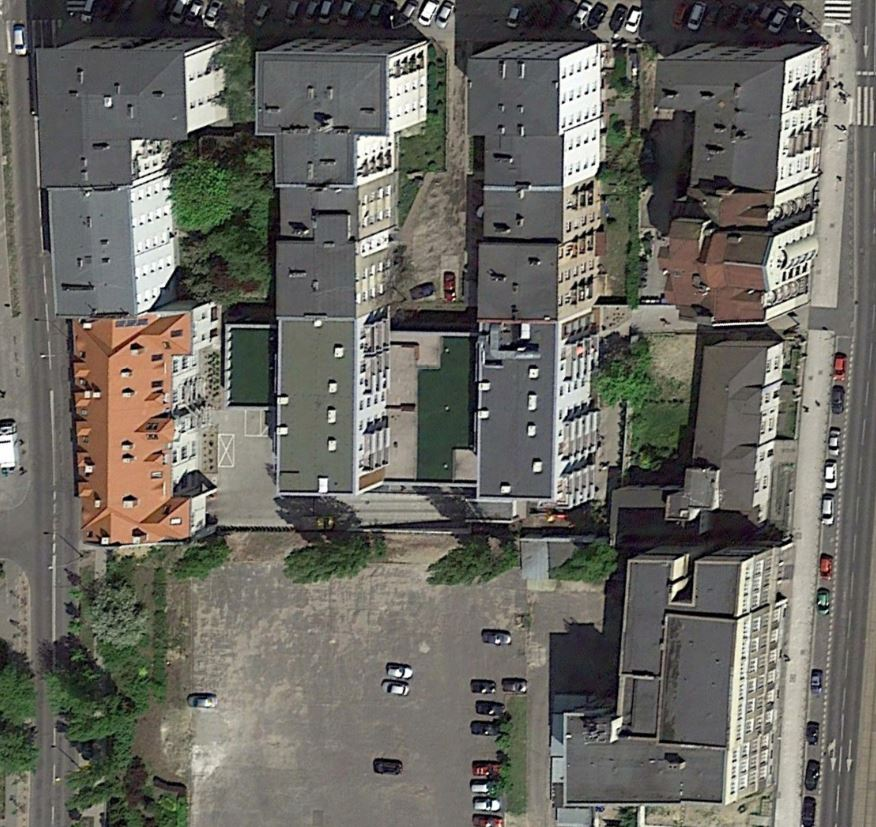block of flats: (528, 22, 839, 820), (27, 13, 241, 569), (233, 27, 445, 539), (440, 24, 619, 530)
